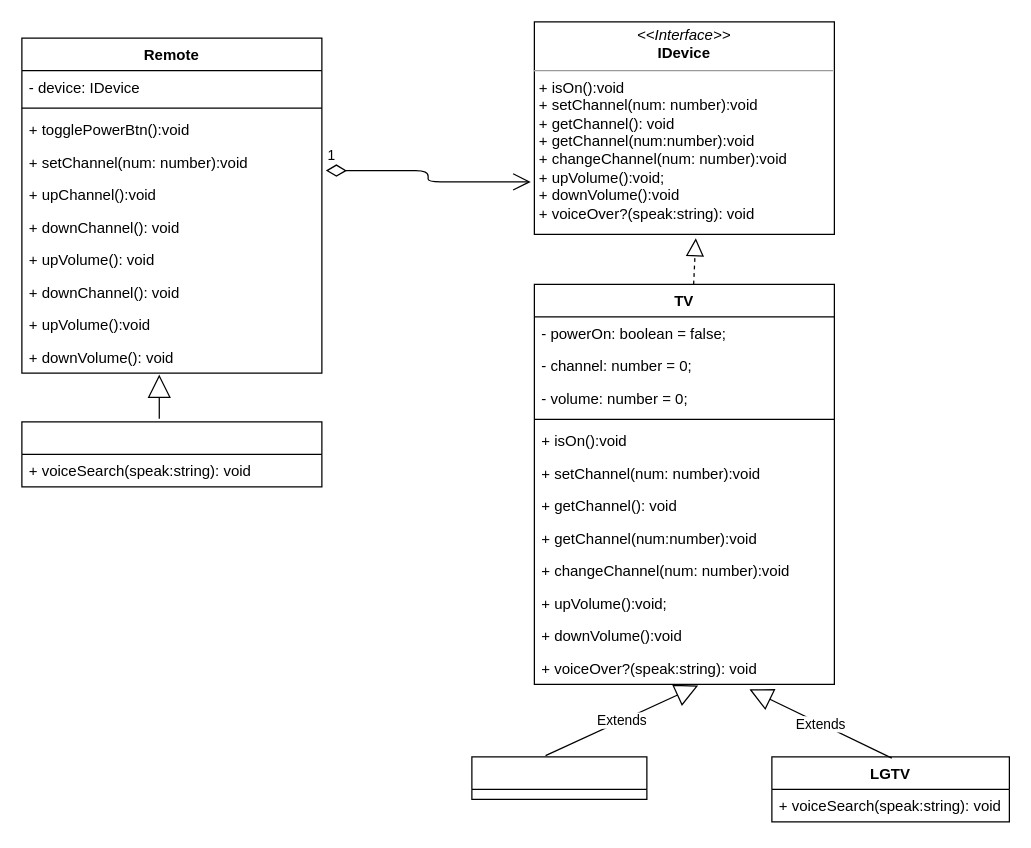
This 1031x848 diagram has some shape labels left out. Each missing label, with the box of its shape:
LGRemote: (21, 421, 322, 487)
SamsungTV: (471, 756, 647, 799)
